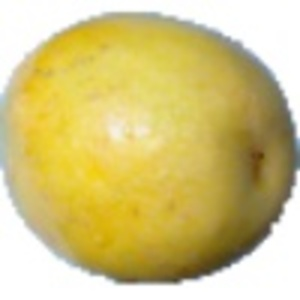maracujá: (1, 1, 300, 286)
